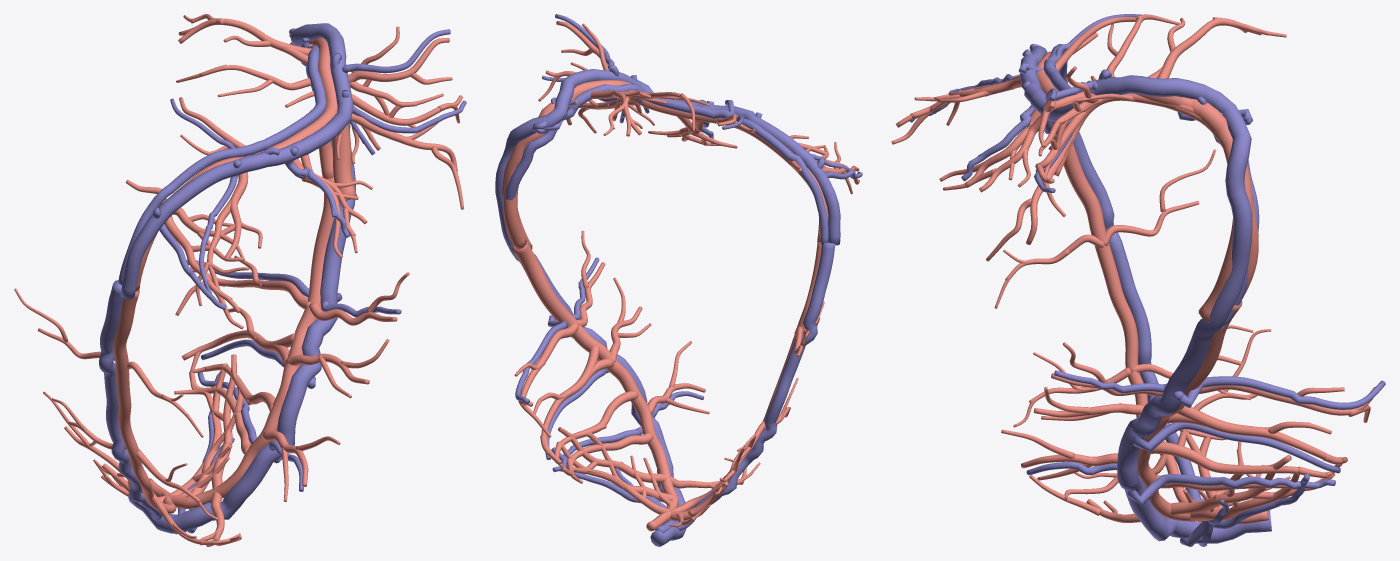
Rendered from vessels_31.glb.
3 renders of one model, left to right at view 1: azimuth 30°, elevation 25°; view 2: azimuth 150°, elevation 25°; view 3: azimuth 270°, elevation 25°, orthographic. The views are drawn at different scales.
Parts seen in each view (by area): view 1: Renderer Node; view 2: Renderer Node; view 3: Renderer Node.
Boxes of the visible parts, x1=… form: Renderer Node: x1=14, y1=14, x2=466, y2=546; Renderer Node: x1=495, y1=14, x2=862, y2=546; Renderer Node: x1=891, y1=14, x2=1385, y2=546.
Size of the model in its own units: 93.73 by 120 by 94.49.
